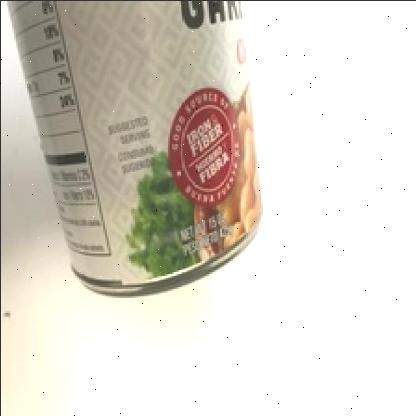Can: (6, 0, 264, 298), (415, 415, 416, 416)
